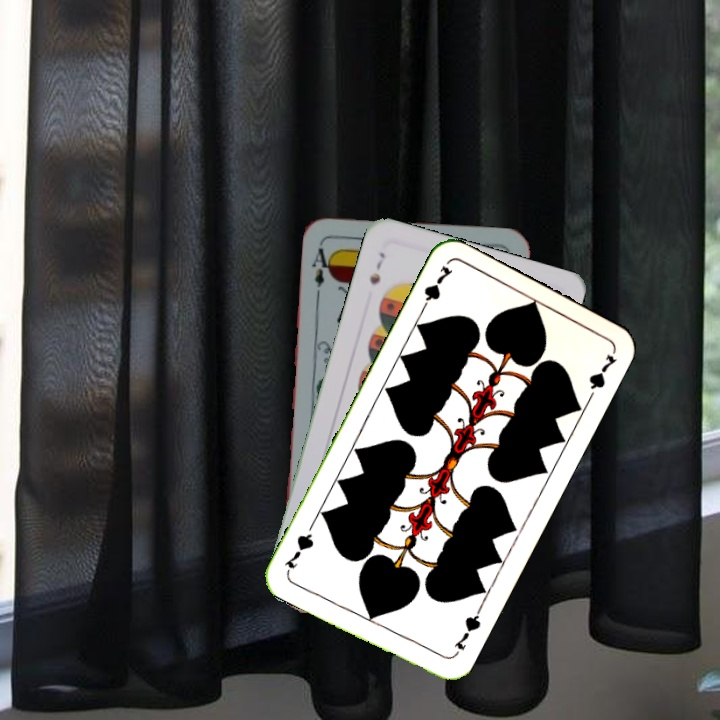EA: (307, 244, 335, 298)
G7: (416, 261, 456, 316), (448, 605, 484, 660)
S7: (365, 248, 388, 287)
